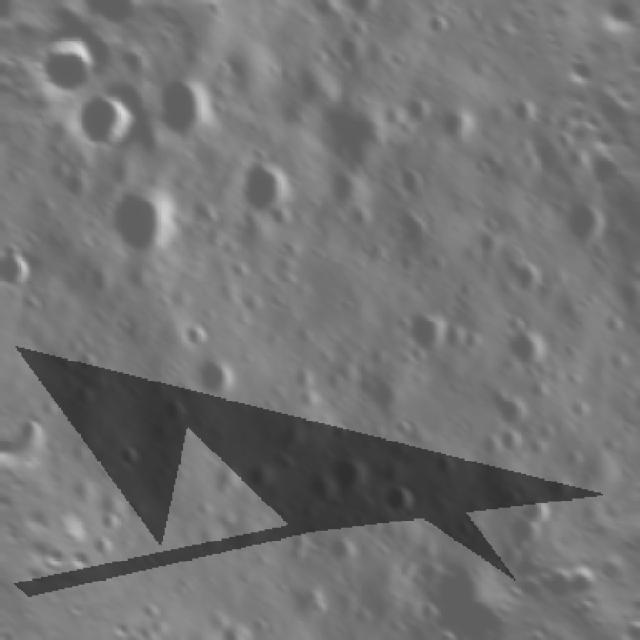crater: (292, 71, 410, 187), (90, 167, 198, 276), (212, 136, 310, 230), (54, 78, 148, 170), (209, 24, 297, 116), (136, 64, 227, 151), (542, 186, 621, 266), (390, 290, 462, 364), (491, 313, 560, 382), (353, 352, 421, 421), (487, 503, 550, 568), (184, 346, 247, 408), (316, 443, 379, 505), (491, 250, 554, 312), (477, 374, 538, 438), (0, 226, 48, 306), (372, 466, 432, 528), (428, 98, 487, 156), (386, 194, 443, 251), (269, 515, 325, 573), (396, 543, 452, 600), (382, 154, 440, 209), (316, 516, 369, 570), (498, 85, 551, 137), (6, 399, 59, 450), (168, 307, 220, 356), (509, 483, 558, 534), (154, 381, 201, 432), (323, 0, 394, 32), (412, 2, 460, 48), (601, 269, 640, 321), (404, 588, 448, 632), (107, 432, 150, 476), (212, 609, 268, 640), (383, 407, 422, 447), (259, 196, 296, 235), (302, 0, 349, 29), (382, 38, 416, 76), (464, 148, 498, 184), (626, 352, 640, 416)
